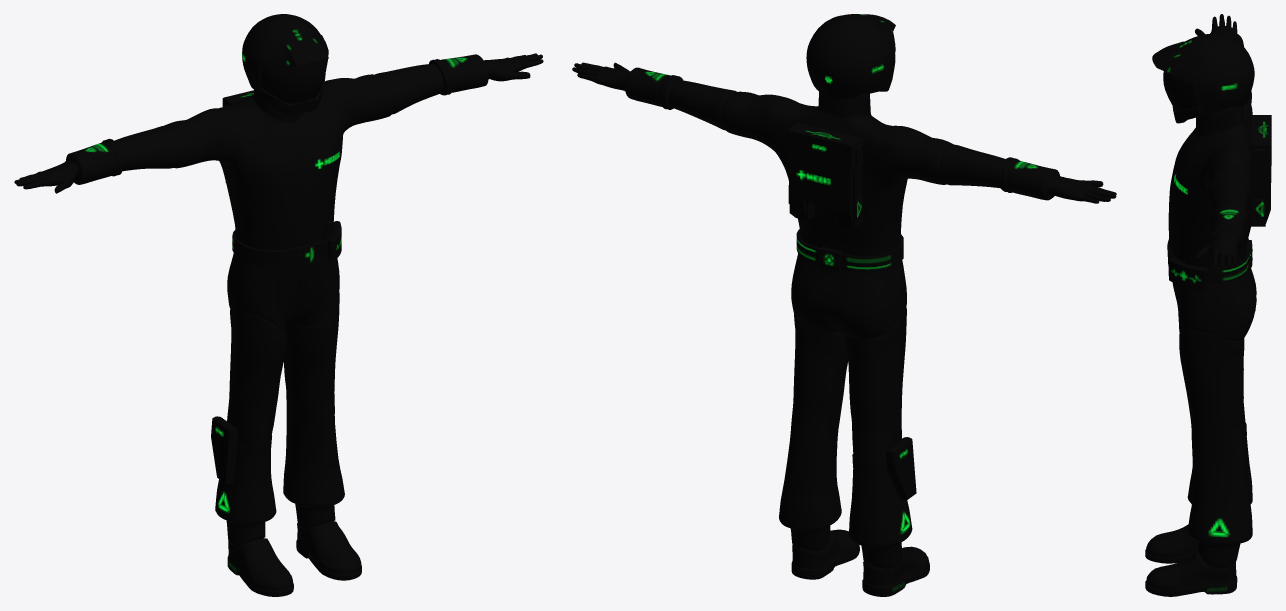
The model's file is SFMD.fbx.
The picture shows the model from 3 angles, left to right: view 1: azimuth 30°, elevation 25°; view 2: azimuth 150°, elevation 25°; view 3: azimuth 270°, elevation 25°; orthographic projection. The views are drawn at different scales.
Visible parts, largest first — view 1: polySurface20, polySurface18, polySurface1, polySurface23, polySurface17, Belt, pPlane1, polySurface22, polySurface19; view 2: polySurface20, BackPack, polySurface18, polySurface23, polySurface1, Belt, pPlane1, polySurface22, polySurface19; view 3: polySurface20, polySurface18, polySurface1, BackPack, polySurface23, polySurface19, pCube1, polySurface17, Belt, polySurface22.
Part boxes in pixels (box(x1,y1,x2,y2)): polySurface20: box(66, 54, 488, 545); polySurface18: box(242, 14, 328, 115); polySurface1: box(296, 521, 361, 580); polySurface23: box(227, 538, 293, 596); polySurface17: box(261, 59, 326, 103); Belt: box(232, 224, 334, 267); pPlane1: box(211, 416, 238, 484); polySurface22: box(14, 160, 78, 193); polySurface19: box(484, 53, 543, 81); polySurface20: box(624, 67, 1059, 568); BackPack: box(786, 122, 862, 230); polySurface18: box(806, 14, 895, 98); polySurface23: box(862, 546, 929, 596); polySurface1: box(791, 529, 859, 579); Belt: box(796, 229, 903, 272); pPlane1: box(885, 437, 916, 500); polySurface22: box(1047, 174, 1116, 203); polySurface19: box(572, 62, 630, 90); polySurface20: box(1168, 31, 1256, 568); polySurface18: box(1152, 33, 1254, 123); polySurface1: box(1145, 550, 1237, 596); BackPack: box(1251, 115, 1271, 226); polySurface23: box(1145, 524, 1198, 563); polySurface19: box(1195, 232, 1238, 268); pCube1: box(1168, 258, 1207, 291); polySurface17: box(1163, 71, 1195, 111); Belt: box(1167, 238, 1250, 283); polySurface22: box(1195, 14, 1237, 35).
Bounding box in the file's own units: 39.17 × 38.82 × 8.32.
